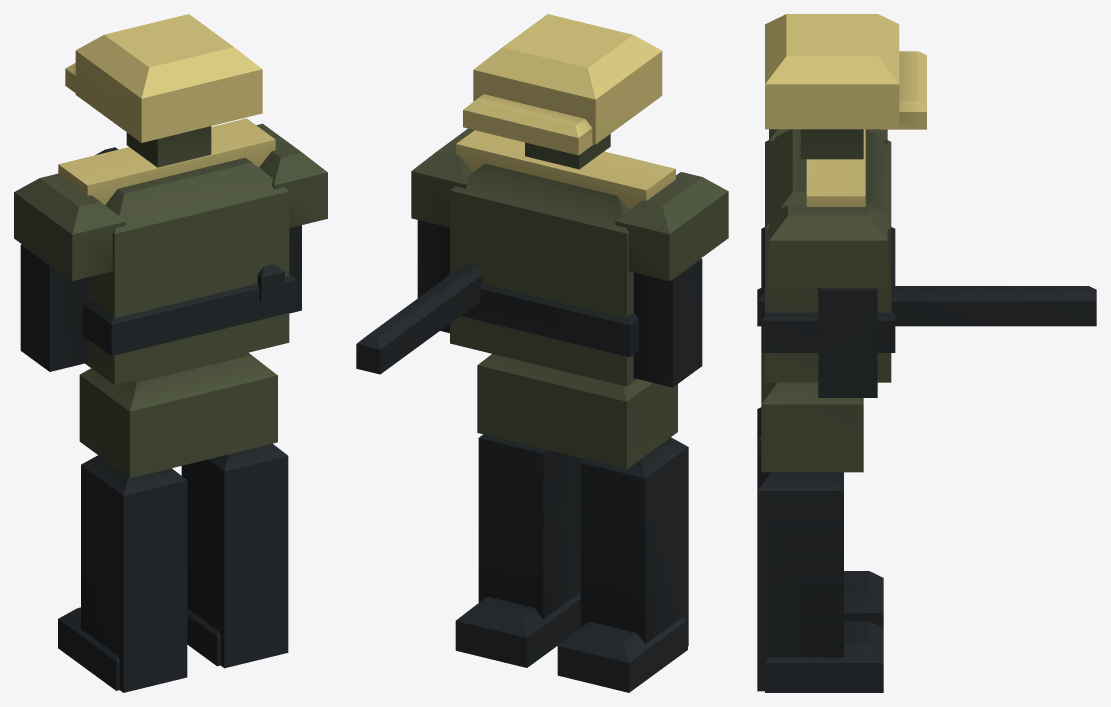
File: rifle_soldier.glb
The picture shows the model from 3 angles, left to right: view 1: azimuth 30°, elevation 25°; view 2: azimuth 150°, elevation 25°; view 3: azimuth 270°, elevation 25°; orthographic projection.
Visible parts, largest first — view 1: Body; view 2: Body; view 3: Body.
Boxes of the visible parts, x1,y1,x2,y2 form: Body: [14, 14, 327, 692]; Body: [356, 14, 728, 692]; Body: [757, 14, 1096, 692].
Size of the model in its own units: 0.76 by 1.72 by 0.86.
